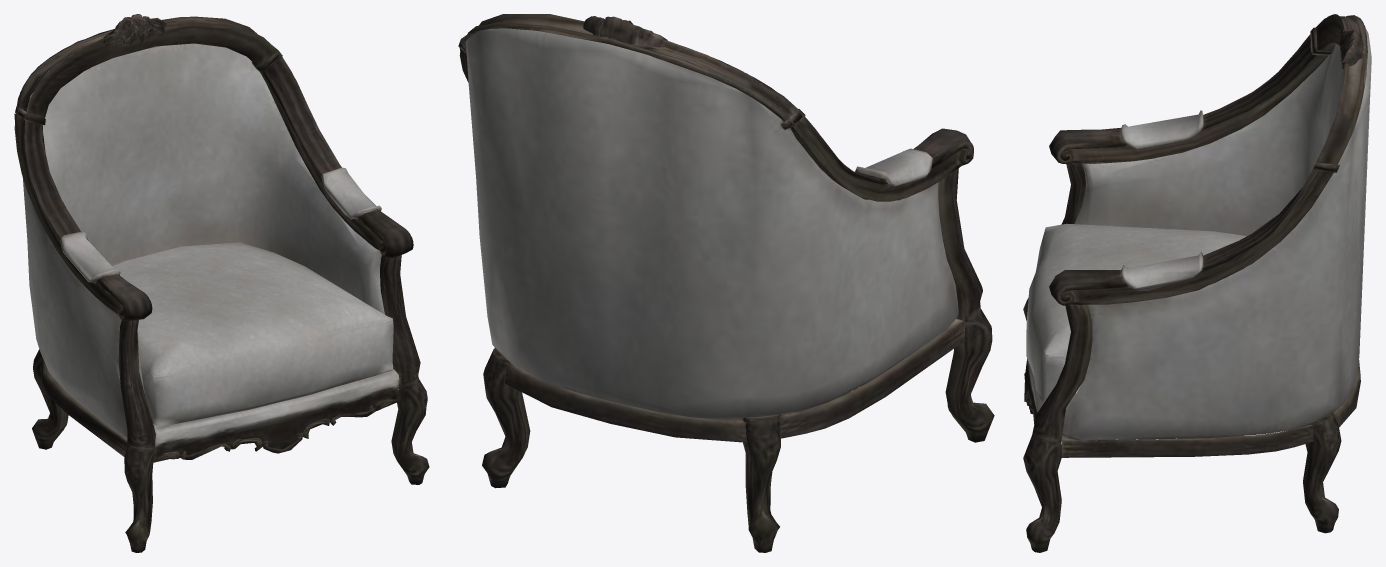
File: ph_ArmChair_01.glb
3 renders of one model, left to right at view 1: azimuth 30°, elevation 25°; view 2: azimuth 150°, elevation 25°; view 3: azimuth 270°, elevation 25°, orthographic. The views are drawn at different scales.
Visible parts, largest first — view 1: ArmChair_01; view 2: ArmChair_01; view 3: ArmChair_01.
Boxes of the visible parts, x1,y1,x2,y2 form: ArmChair_01: (14,14,429,552); ArmChair_01: (458,14,994,552); ArmChair_01: (1023,14,1371,552).
Size of the model in its own units: 0.8497 by 1.07 by 0.7652.
Materials: 1 (1 with a texture image).
